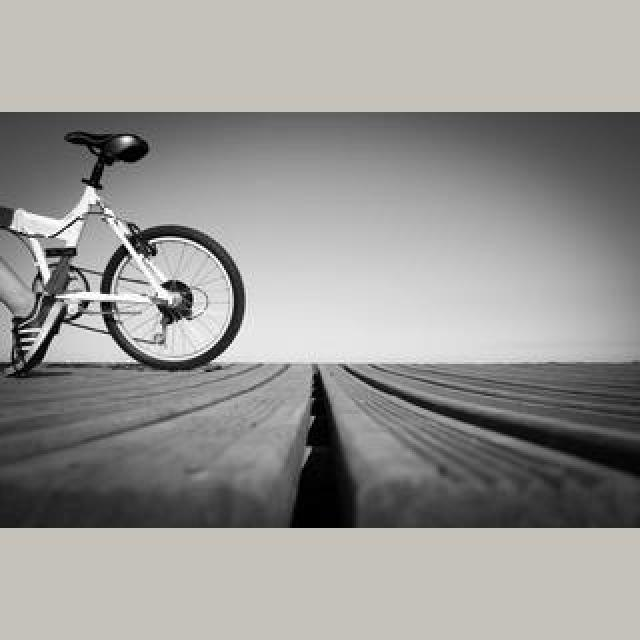Person: (2, 131, 242, 377)
